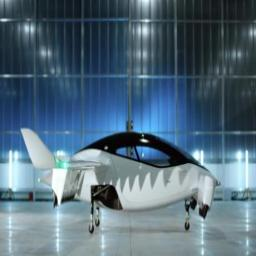helicopter: (21, 127, 223, 233)
